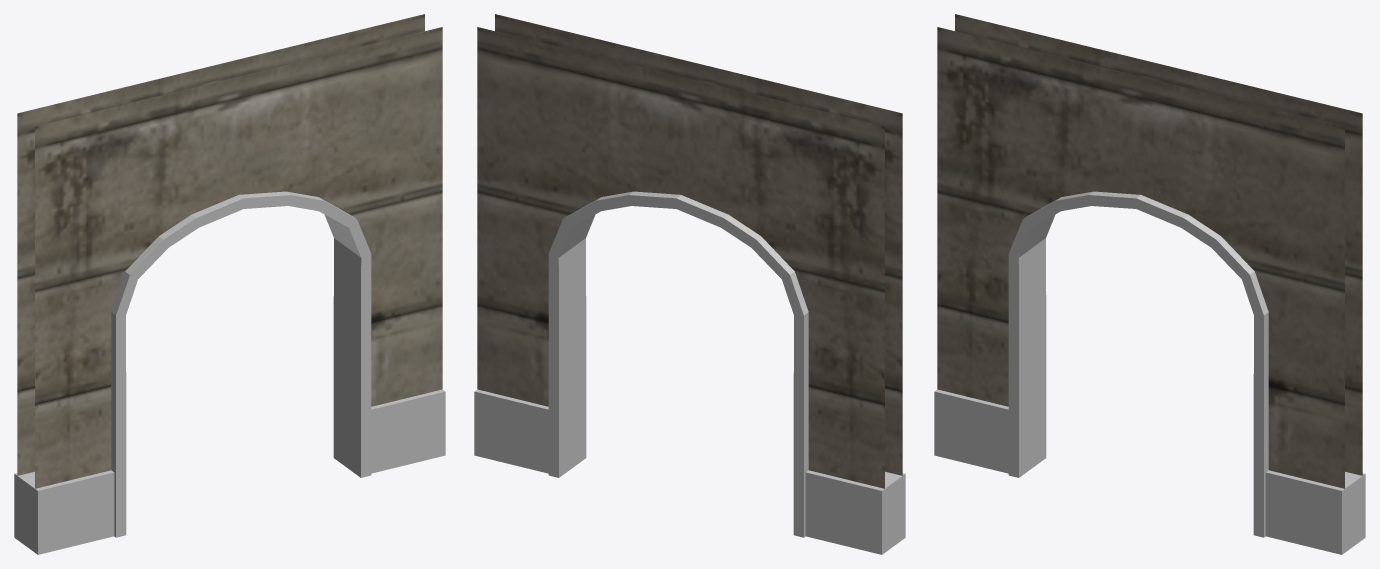
File: MO_WALL_S_DOOR_08.fbx
3 renders of one model, left to right at view 1: azimuth 30°, elevation 25°; view 2: azimuth 150°, elevation 25°; view 3: azimuth 330°, elevation 25°, orthographic.
Visible parts, largest first — view 1: MO_WALL_S_DOOR_08; view 2: MO_WALL_S_DOOR_08; view 3: MO_WALL_S_DOOR_08.
Boxes of the visible parts, x1,y1,x2,y2 form: MO_WALL_S_DOOR_08: [14, 14, 445, 554]; MO_WALL_S_DOOR_08: [474, 14, 905, 554]; MO_WALL_S_DOOR_08: [934, 14, 1365, 554].
Bounding box in the file's own units: 4 × 4 × 0.464.
